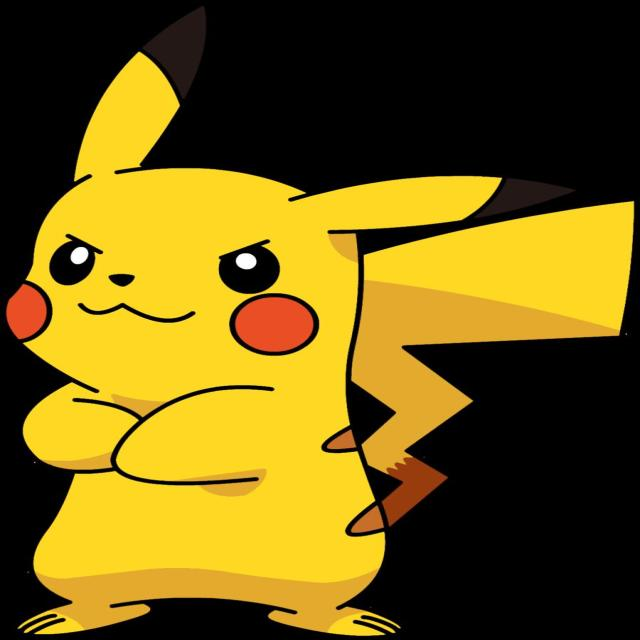pikachu: (7, 9, 640, 637)
